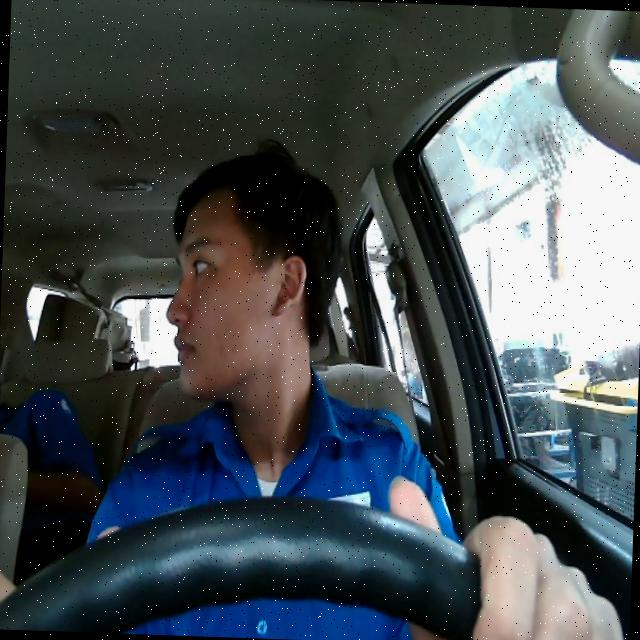seeing_left: (160, 178, 310, 406)
